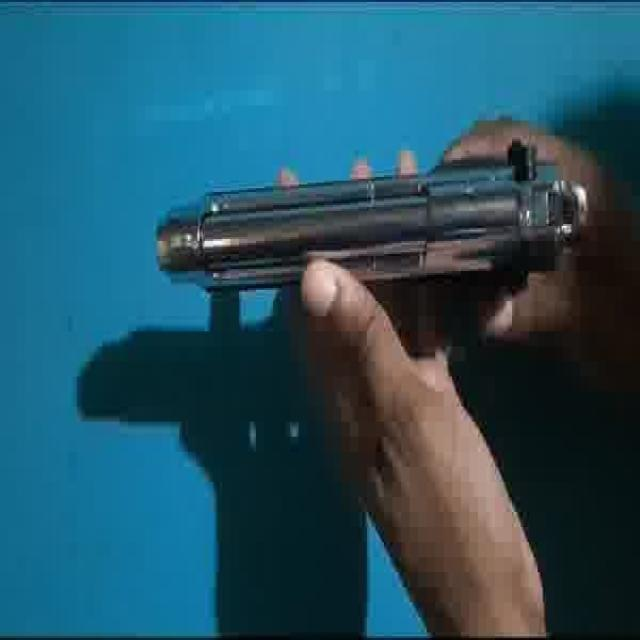weapon: (152, 134, 590, 296)
